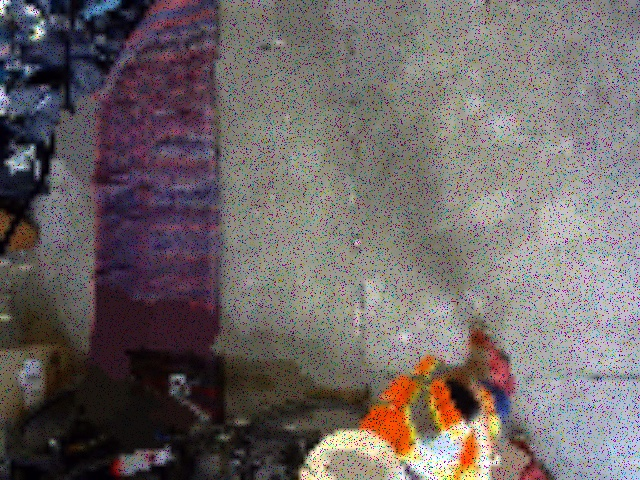eight: (303, 448, 355, 475)
